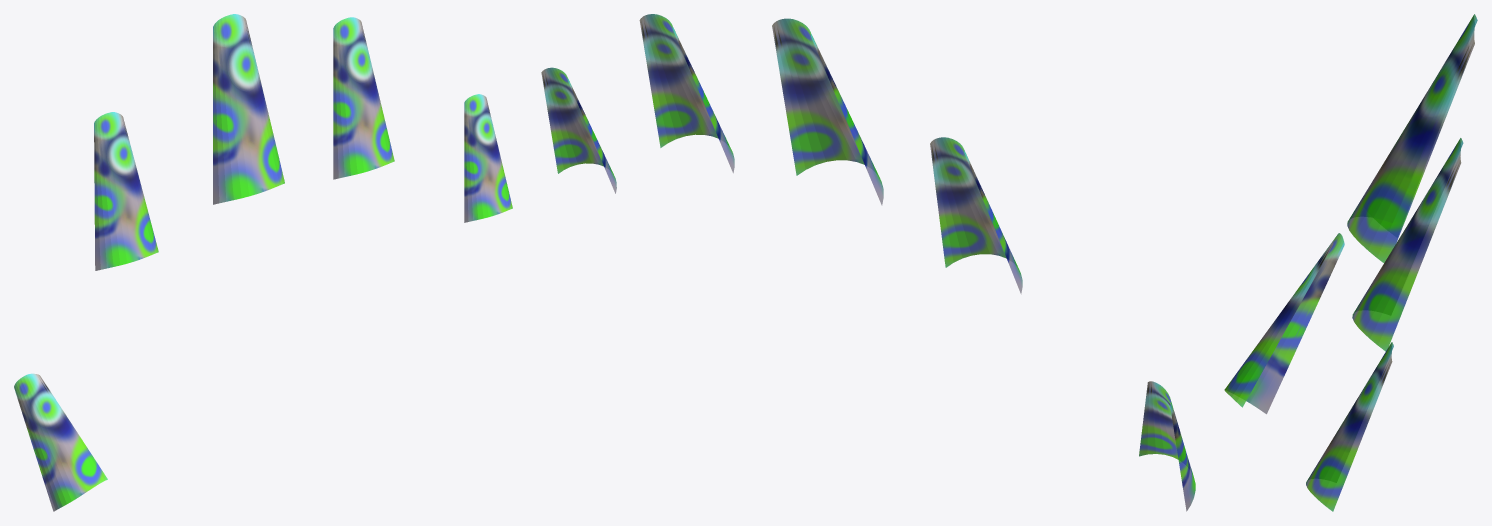
File: zwei.glb
3 renders of one model, left to right at view 1: azimuth 30°, elevation 25°; view 2: azimuth 150°, elevation 25°; view 3: azimuth 270°, elevation 25°, orthographic. The views are drawn at different scales.
Parts seen in each view (by area): view 1: Cylinder.001, Cylinder.002, Cylinder.003, Cylinder.005, Cylinder.004; view 2: Cylinder.001, Cylinder.002, Cylinder.003, Cylinder.004, Cylinder.005; view 3: Cylinder.001, Cylinder.003, Cylinder.005, Cylinder.004.
Boxes of the visible parts, x1,y1,x2,y2 form: Cylinder.001: (213, 14, 284, 204); Cylinder.002: (94, 112, 158, 270); Cylinder.003: (333, 17, 394, 179); Cylinder.005: (14, 373, 107, 511); Cylinder.004: (464, 94, 512, 222); Cylinder.001: (772, 18, 883, 205); Cylinder.002: (930, 137, 1022, 294); Cylinder.003: (639, 14, 734, 173); Cylinder.004: (541, 67, 616, 193); Cylinder.005: (1139, 381, 1195, 511); Cylinder.001: (1347, 14, 1477, 262); Cylinder.003: (1352, 138, 1463, 351); Cylinder.005: (1224, 233, 1344, 414); Cylinder.004: (1306, 342, 1393, 511).
Size of the model in its own units: 5.02 by 3.74 by 1.49.
Materials: 1 (1 with a texture image).
